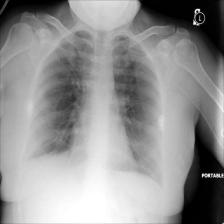normal: (19, 25, 168, 192)
